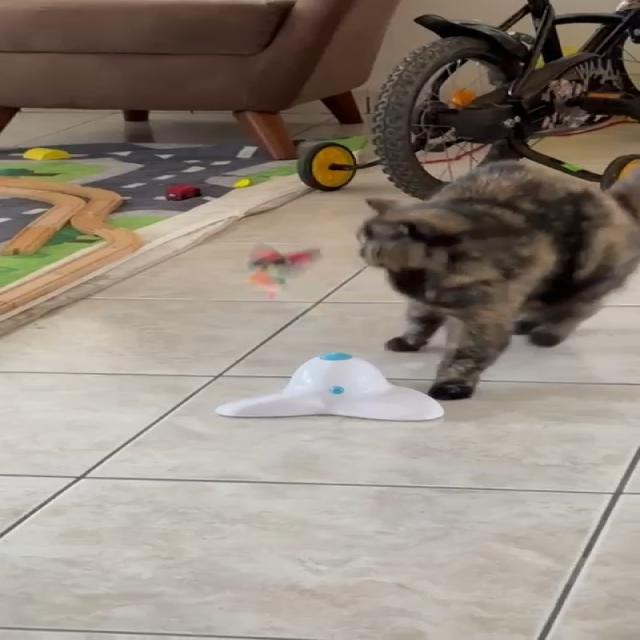authorized: (354, 158, 638, 400)
